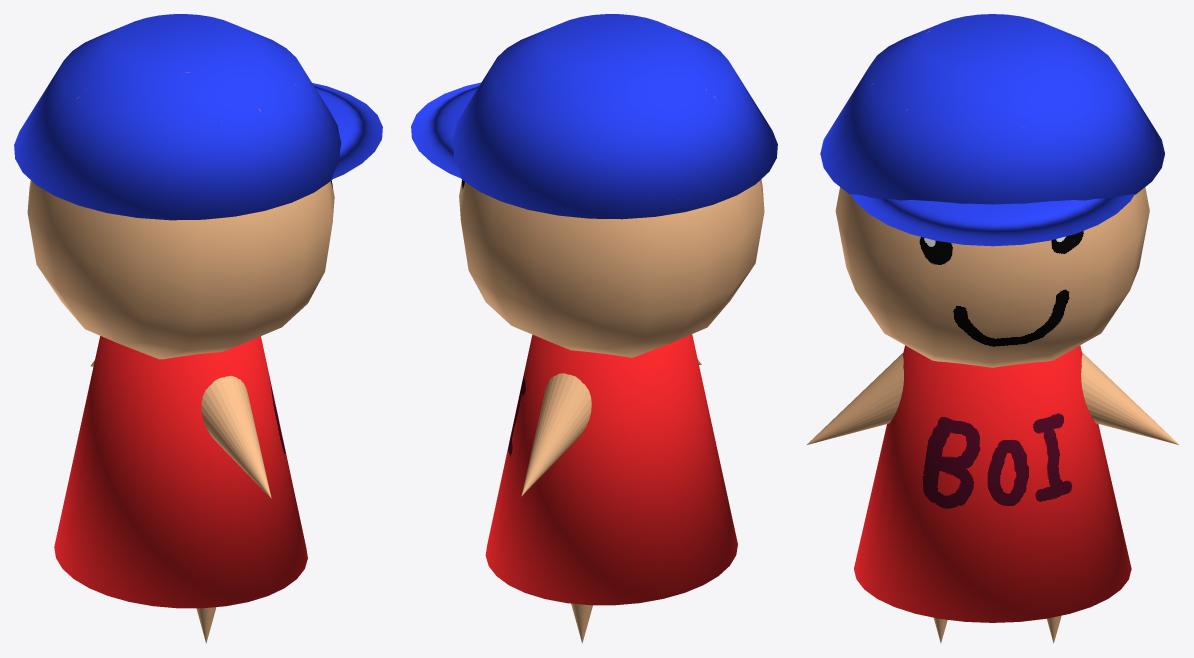
Rendered from new_boi.fbx.
The picture shows the model from 3 angles, left to right: view 1: azimuth 30°, elevation 25°; view 2: azimuth 150°, elevation 25°; view 3: azimuth 270°, elevation 25°; orthographic projection. The views are drawn at different scales.
Visible parts, largest first — view 1: Cylinder.001, Cylinder, Cube, Cone.002, Cylinder.002; view 2: Cylinder.001, Cylinder, Cube, Cone.003, Cylinder.002; view 3: Cylinder, Cylinder.001, Cube, Cylinder.002, Cone.003, Cone.002.
Boxes of the visible parts, <box> form: Cylinder.001: <box>14,14,341,220</box>; Cylinder: <box>54,336,307,608</box>; Cube: <box>27,180,334,359</box>; Cone.002: <box>201,375,271,498</box>; Cylinder.002: <box>312,83,382,179</box>; Cylinder.001: <box>452,14,777,219</box>; Cylinder: <box>485,334,737,605</box>; Cube: <box>459,179,764,357</box>; Cone.003: <box>521,373,591,496</box>; Cylinder.002: <box>411,82,480,178</box>; Cylinder: <box>854,345,1131,622</box>; Cylinder.001: <box>820,14,1164,204</box>; Cube: <box>835,187,1149,367</box>; Cylinder.002: <box>850,194,1134,246</box>; Cone.003: <box>1081,352,1178,444</box>; Cone.002: <box>807,353,903,444</box>.
Size of the model in its own units: 175 by 295 by 166.
5 materials, 5 textured.
